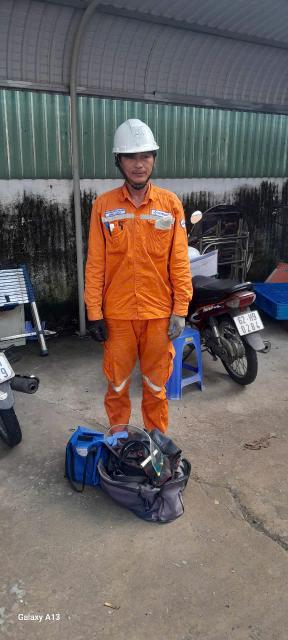gloves: (82, 316, 116, 349), (162, 311, 194, 341)
helmet: (102, 116, 165, 162)
